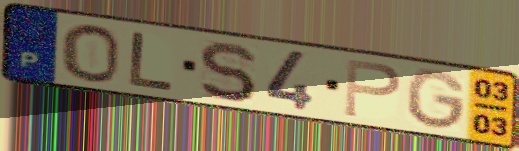4: (263, 48, 321, 114)
G: (405, 67, 470, 133)
L: (126, 29, 179, 93)
O: (58, 22, 122, 85)
P: (341, 56, 404, 120)
S: (196, 40, 260, 104)
